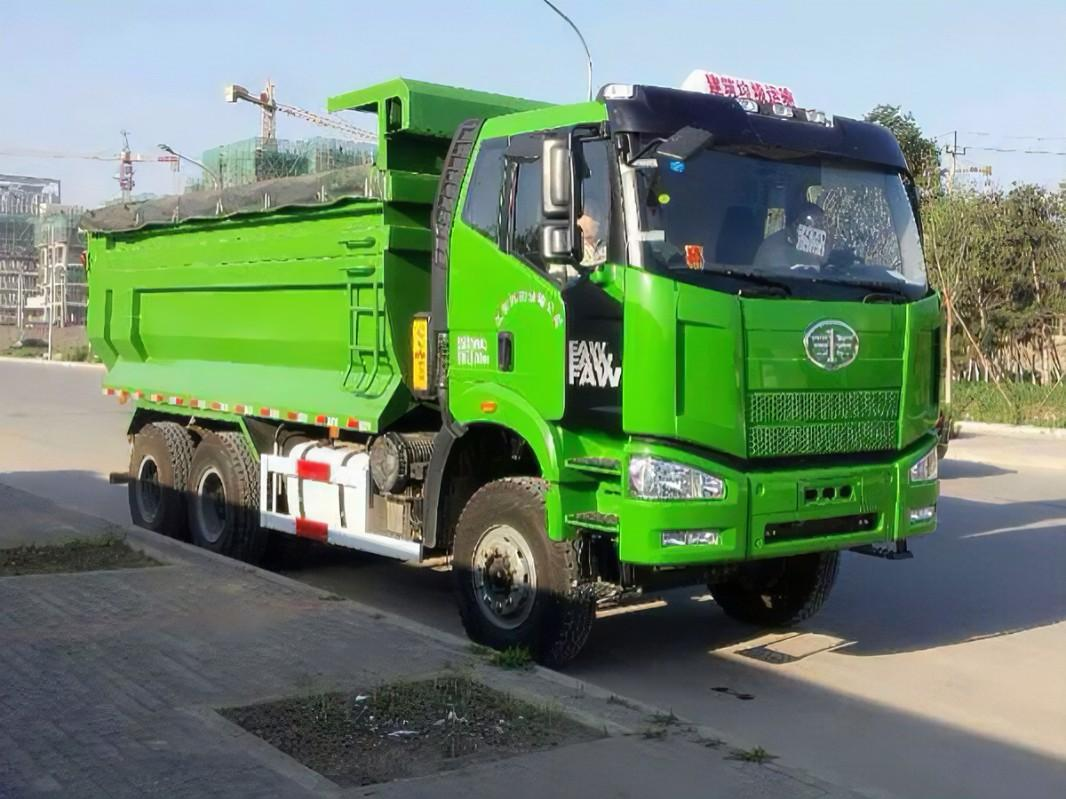truck: (71, 41, 953, 661)
